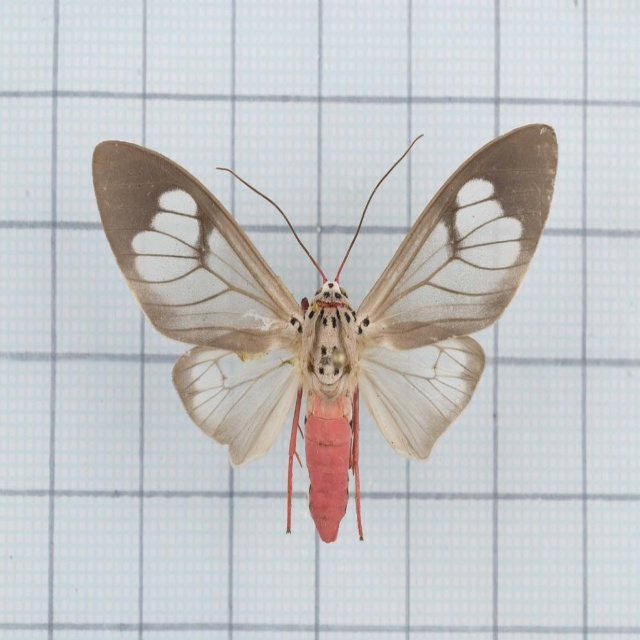Butterfly: (83, 122, 563, 552)
